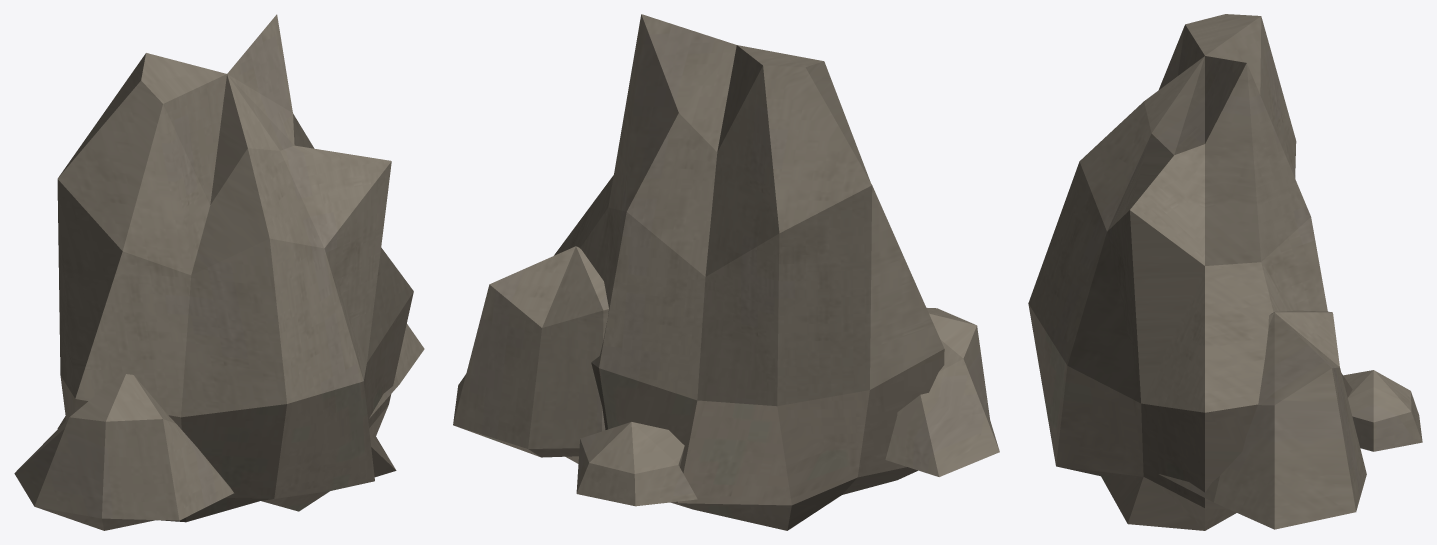
File: rock_large_02.glb
The picture shows the model from 3 angles, left to right: view 1: azimuth 30°, elevation 25°; view 2: azimuth 150°, elevation 25°; view 3: azimuth 270°, elevation 25°; orthographic projection. The views are drawn at different scales.
Parts seen in each view (by area): view 1: rock_large_02; view 2: rock_large_02; view 3: rock_large_02.
Part boxes in pixels (x1=…): rock_large_02: x1=14, y1=14, x2=424, y2=530; rock_large_02: x1=453, y1=14, x2=999, y2=530; rock_large_02: x1=1028, y1=14, x2=1422, y2=530.
Bounding box in the file's own units: 2.66 × 2.51 × 1.99.
Materials: 3 (3 with a texture image).
